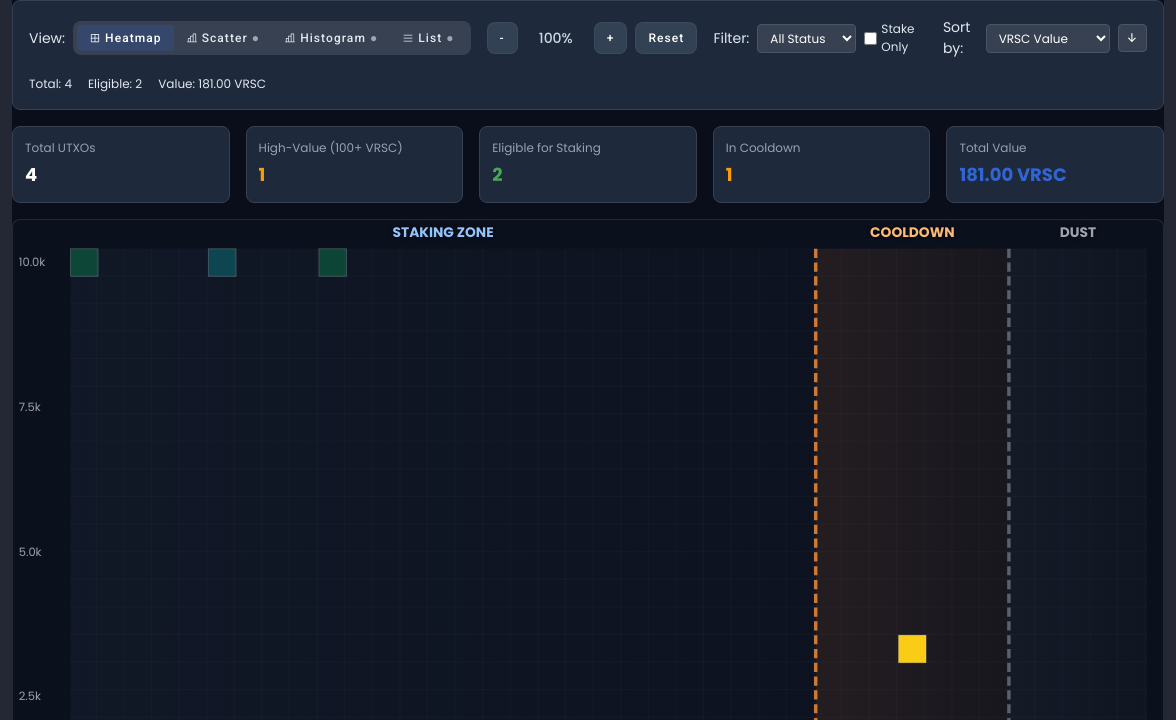
Scenario: AdvancedUTXOVisualizer Component › Filtering › should filter by status
The width and height of the screenshot is (1176, 720).
Select "Eligible" in the dropdown showing "All Status" at [807, 38], box [757,24,856,52]
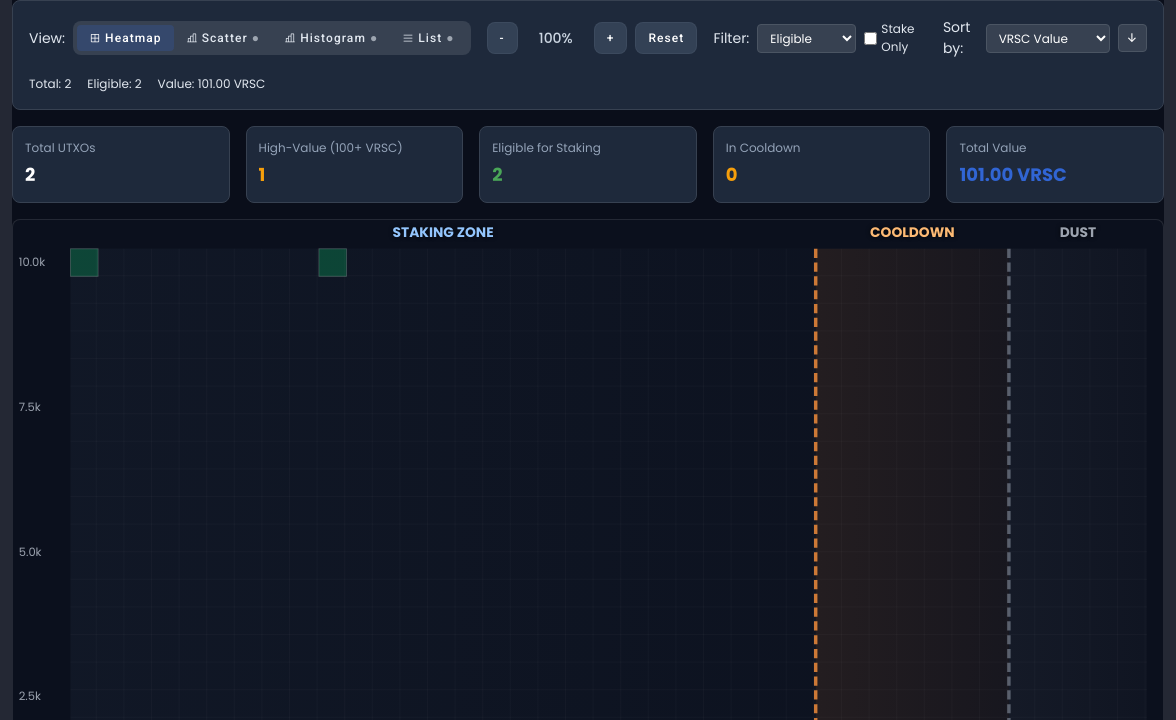
Result: the text "Total: 2" is shown at [29,75,71,93]
